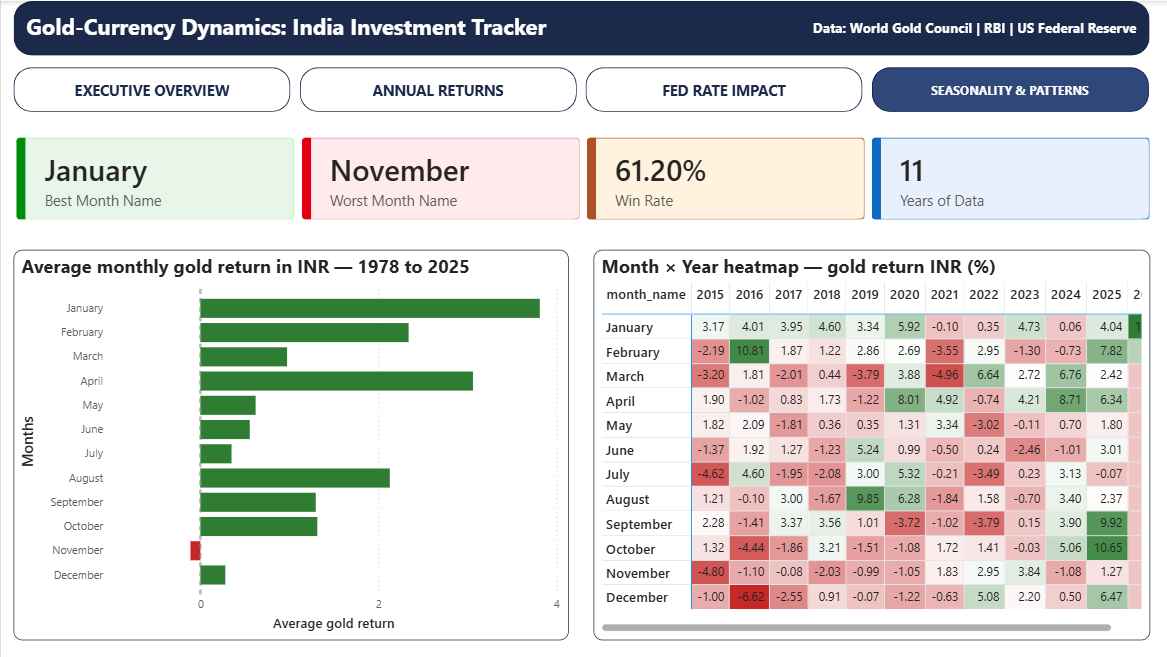

The dashboard page shown, as its layout file describes it:
{"tool":"powerbi","page":{"name":"SEASONALITY & PATTERNS","canvas":[1280,720],"ordinal":3},"visuals":[{"type":"pageNavigator","box":[13.7,72.7,1247.3,49.4],"z":0},{"type":"shape","box":[13.7,0,1247.3,60],"z":1000},{"type":"textbox","title":"Gold-Currency Dynamics: India Investment Tracker","box":[22,0,606.5,59],"z":2000},{"type":"textbox","title":" Data: World Gold Council | RBI | US Federal Reserve","box":[813.7,2.7,439.1,54.9],"z":3000},{"type":"cardVisual","fields":{"Data":["gold_investment_master.Best Month Name","gold_investment_master.Worst Month Name","gold_investment_master.Win Rate","gold_investment_master.Years of Data"]},"box":[0,133.1,1280.3,124.9],"z":4000},{"type":"clusteredBarChart","title":"Average monthly gold return in INR — 1978 to 2025","fields":{"Category":["gold_investment_master.month_name"],"Y":["Avg(gold_investment_master.gold_inr_return_1d)"]},"box":[13.8,272.5,609.4,428.7],"z":5000},{"type":"pivotTable","title":"Month × Year heatmap — gold return INR (%)","fields":{"Rows":["gold_investment_master.month_name"],"Columns":["gold_investment_master.year"],"Values":["Avg(gold_investment_master.gold_inr_return_1d)"]},"box":[650.7,272.5,610.9,428.7],"z":6000}]}

Visuals, with their boxes in screenshot pixels (x1, y1, x2, y2), scaled from the page's 1280x720 canvas onto the 1167x657 screenshot:
pageNavigator: <bbox>12, 66, 1150, 111</bbox>
shape: <bbox>12, 0, 1150, 55</bbox>
"Gold-Currency Dynamics: India Investment Tracker" textbox: <bbox>20, 0, 573, 54</bbox>
" Data: World Gold Council | RBI | US Federal Reserve" textbox: <bbox>742, 2, 1142, 53</bbox>
cardVisual - gold_investment_master.Best Month Name x gold_investment_master.Worst Month Name: <bbox>0, 121, 1166, 235</bbox>
"Average monthly gold return in INR — 1978 to 2025" clusteredBarChart: <bbox>13, 249, 568, 640</bbox>
"Month × Year heatmap — gold return INR (%)" pivotTable: <bbox>593, 249, 1150, 640</bbox>
